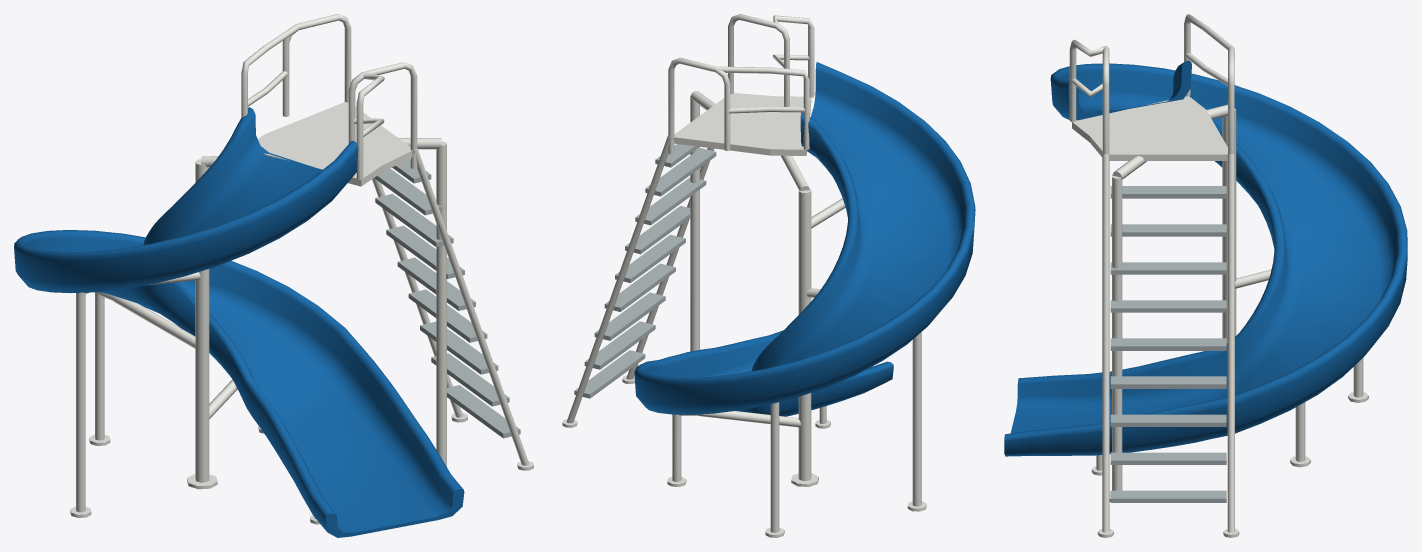
The model's file is pool_slide_spiral.glb.
The picture shows the model from 3 angles, left to right: view 1: azimuth 30°, elevation 25°; view 2: azimuth 150°, elevation 25°; view 3: azimuth 270°, elevation 25°; orthographic projection. The views are drawn at different scales.
Visible parts, largest first — view 1: pool_slide_spiral; view 2: pool_slide_spiral; view 3: pool_slide_spiral.
Part boxes in pixels (box(x1,y1,x2,y2)): pool_slide_spiral: box(14, 14, 533, 537); pool_slide_spiral: box(562, 14, 975, 537); pool_slide_spiral: box(1004, 14, 1407, 537).
Size of the model in its own units: 3.57 by 3.45 by 3.06.
